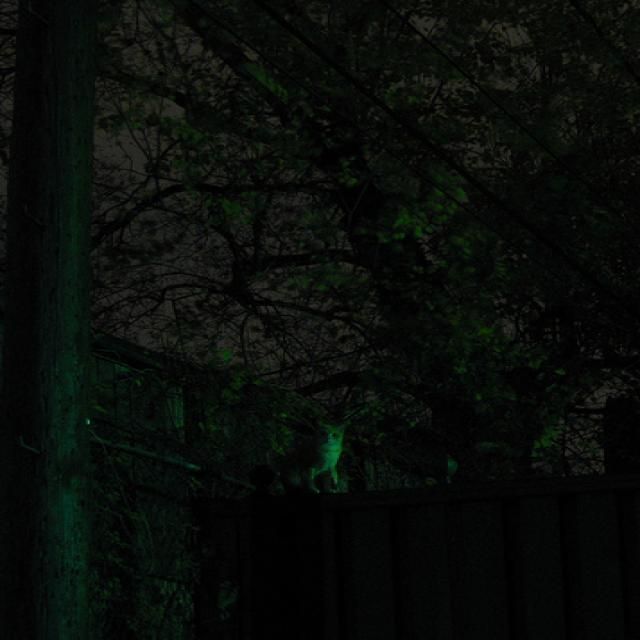Cat: (268, 400, 356, 507)
